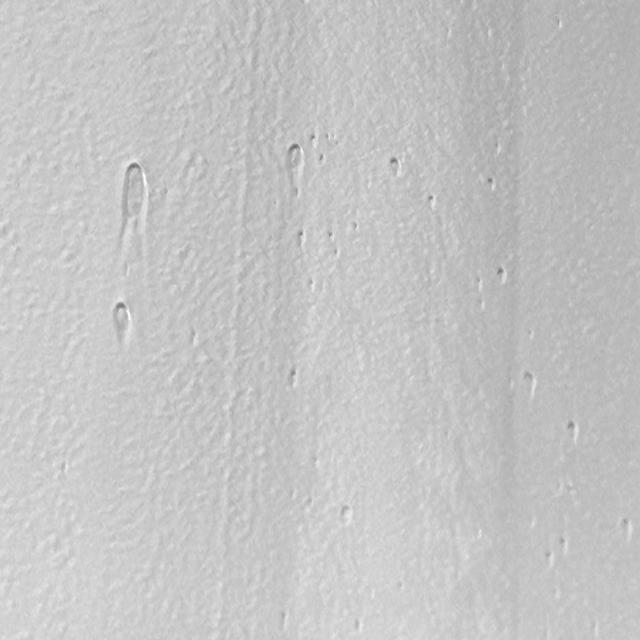pin holes: (114, 160, 156, 228), (110, 300, 138, 345), (279, 141, 305, 189), (520, 369, 540, 400), (564, 419, 584, 446), (336, 503, 356, 526), (618, 517, 636, 542), (284, 366, 302, 391), (388, 156, 406, 180), (544, 546, 557, 572), (495, 265, 511, 286), (426, 192, 441, 213), (556, 536, 570, 557), (350, 616, 364, 636), (483, 176, 498, 193), (297, 227, 308, 249), (472, 275, 485, 292), (305, 277, 318, 293), (307, 132, 318, 148), (350, 221, 360, 237), (316, 153, 326, 167), (328, 228, 336, 241), (333, 248, 341, 259)
